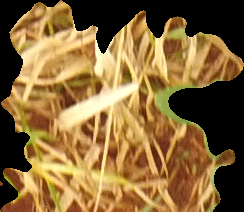soil: (3, 3, 240, 210)
